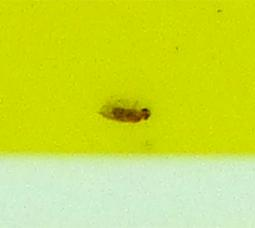Brachycera: (100, 100, 155, 128)
